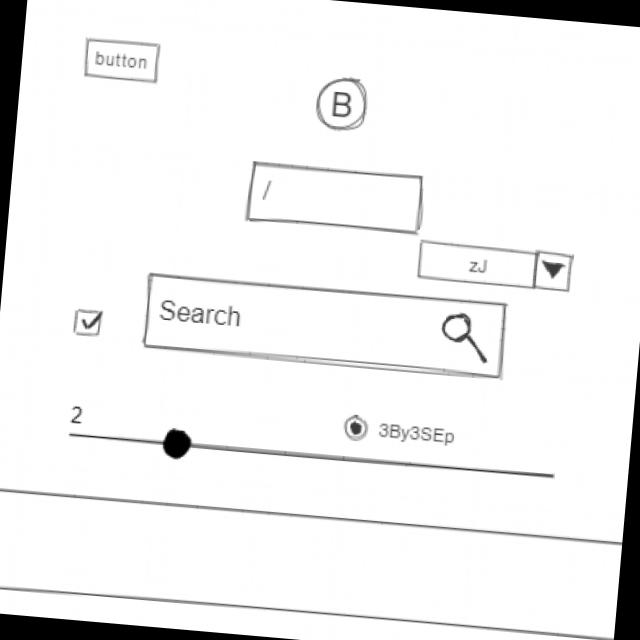button: (81, 36, 165, 86)
checkbox: (72, 306, 106, 340)
container: (1, 484, 623, 640)
icon-button: (314, 74, 371, 135)
input: (244, 159, 430, 239)
radio: (341, 414, 459, 452)
search: (140, 271, 511, 384)
select: (415, 239, 577, 296)
slider: (86, 419, 559, 494)
